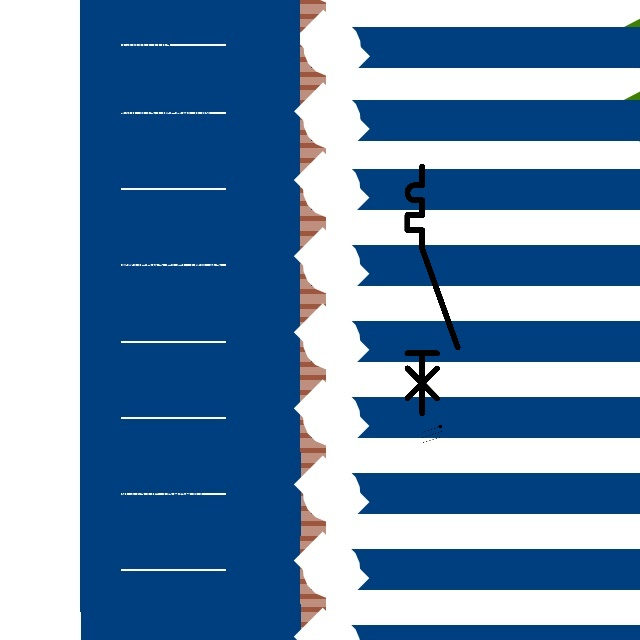interruptor_termomagnetico: (401, 160, 464, 419)
